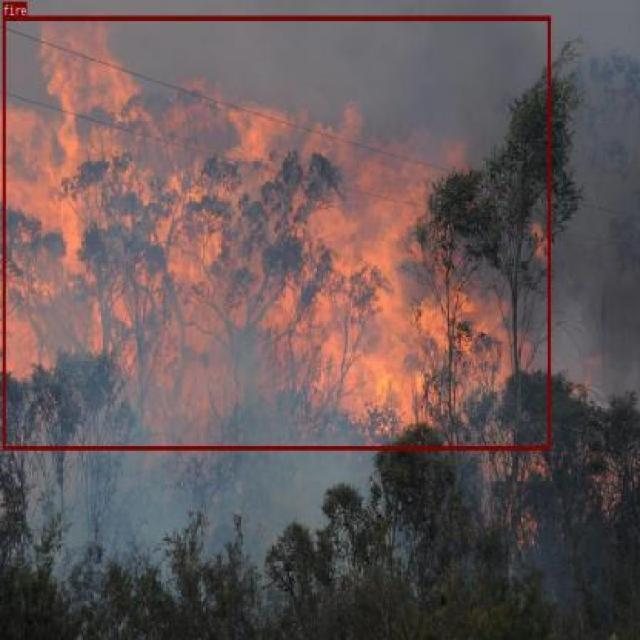Fire: (2, 16, 550, 450)
